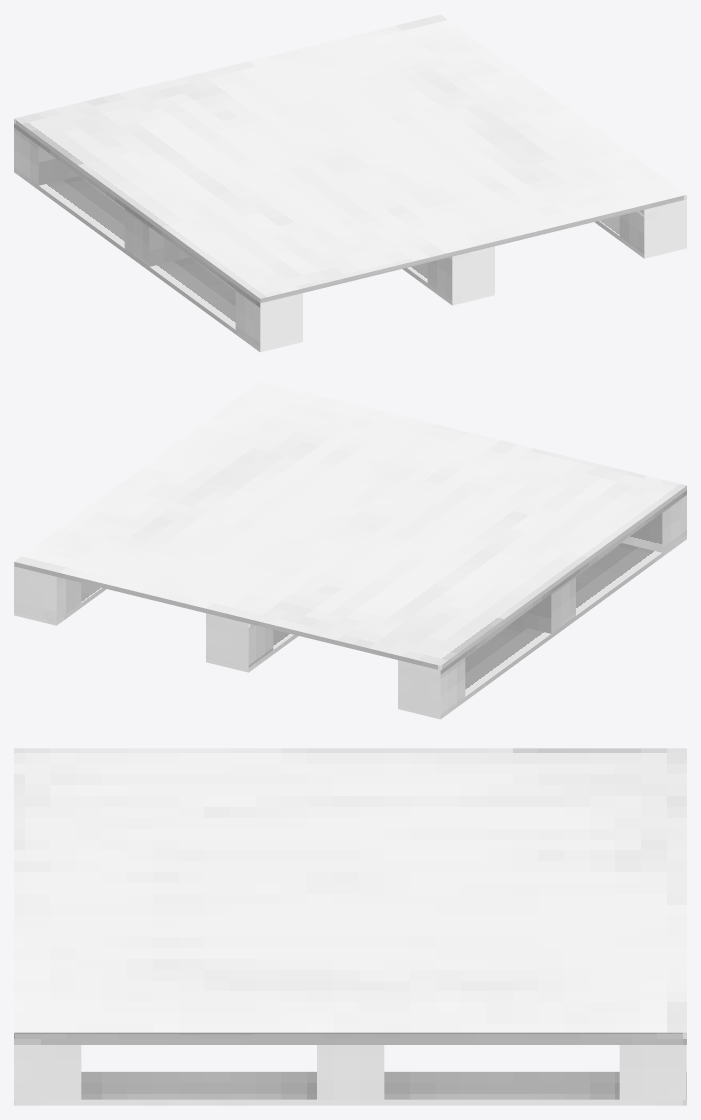
Rendered from WoodenBoardPalletEnglish.glb.
3 views of the same model, one above another, from view 1: azimuth 30°, elevation 25°; view 2: azimuth 150°, elevation 25°; view 3: azimuth 270°, elevation 25° (orthographic). The views are drawn at different scales.
Visible parts, largest first — view 1: WoodenBoardPalletEnglish; view 2: WoodenBoardPalletEnglish; view 3: WoodenBoardPalletEnglish.
Part boxes in pixels (x1,y1,x2,y2): WoodenBoardPalletEnglish: (14,14,686,352); WoodenBoardPalletEnglish: (14,381,686,719); WoodenBoardPalletEnglish: (14,748,686,1105).
Bounding box in the file's own units: 1.2 × 0.1441 × 1.2.
1 material, 1 textured.
